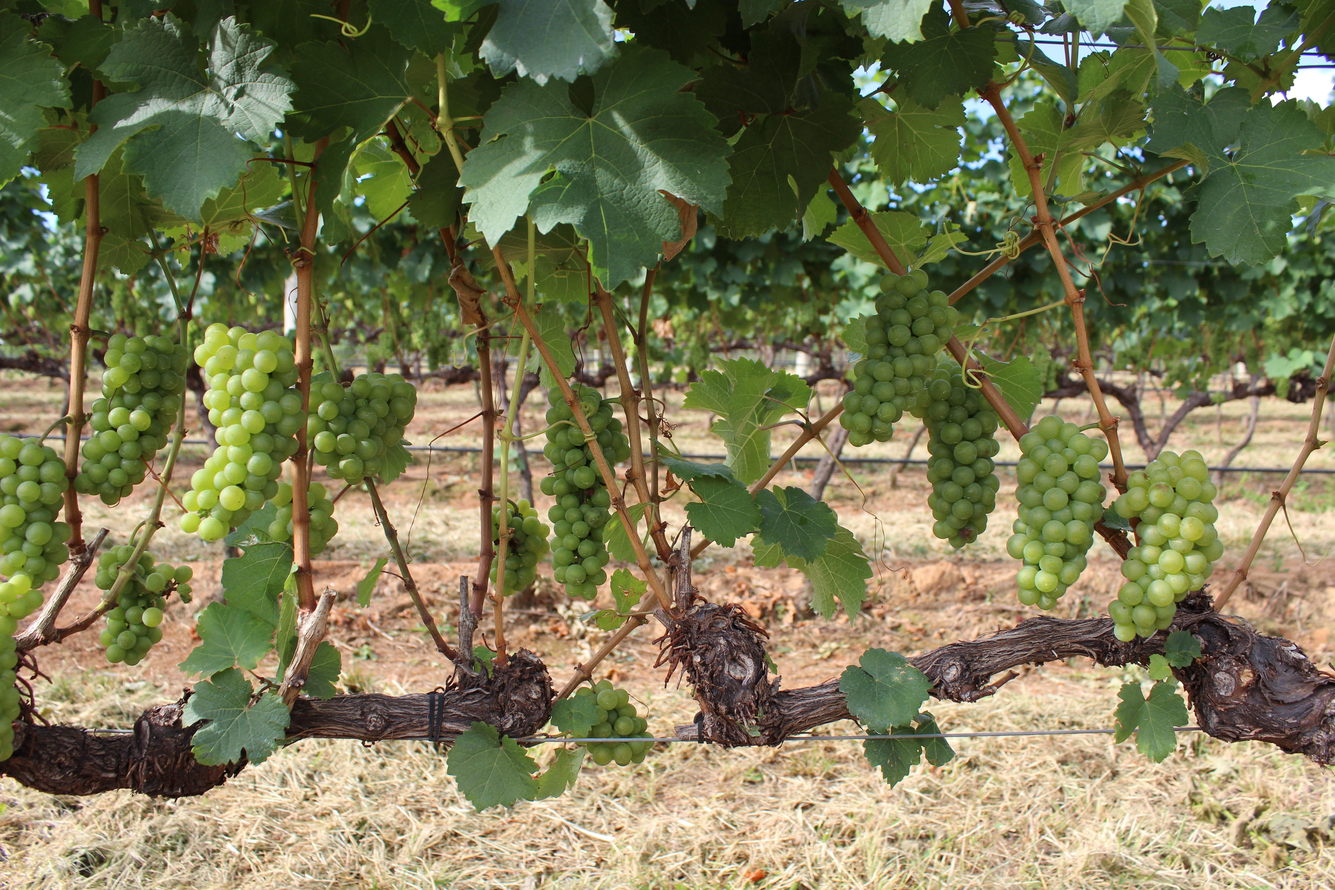leaf: (460, 45, 730, 288), (74, 14, 294, 219), (716, 93, 861, 239), (683, 358, 810, 484), (289, 25, 411, 142), (0, 11, 70, 184), (480, 0, 616, 84), (182, 668, 289, 765), (859, 96, 965, 184), (883, 27, 996, 109), (446, 721, 539, 811), (840, 648, 931, 733), (178, 602, 274, 674), (801, 526, 872, 618), (754, 486, 839, 560), (221, 542, 293, 628), (1195, 5, 1300, 63), (1115, 681, 1188, 761), (367, 0, 465, 58), (685, 475, 760, 547), (977, 355, 1043, 423), (408, 150, 462, 228), (527, 303, 576, 388), (841, 0, 932, 41), (871, 210, 927, 261), (533, 747, 586, 800), (828, 219, 885, 267), (224, 502, 277, 547), (301, 641, 341, 700), (1063, 0, 1126, 37), (658, 451, 735, 481), (550, 695, 599, 737), (610, 568, 647, 614), (603, 514, 636, 562), (357, 557, 388, 607), (1165, 630, 1202, 667), (921, 738, 955, 766), (627, 503, 645, 537), (915, 712, 941, 734), (924, 15, 931, 22), (784, 182, 787, 188), (201, 618, 202, 635), (924, 28, 927, 33), (289, 557, 290, 562), (249, 665, 253, 666), (1110, 511, 1111, 512), (859, 548, 860, 549), (688, 508, 689, 509), (270, 545, 271, 545), (215, 669, 216, 669)
